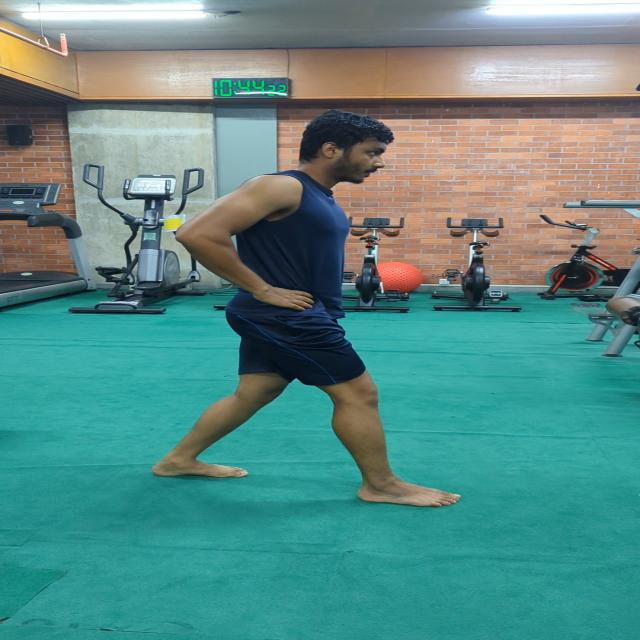Normal_Lunges: (108, 106, 494, 510)
